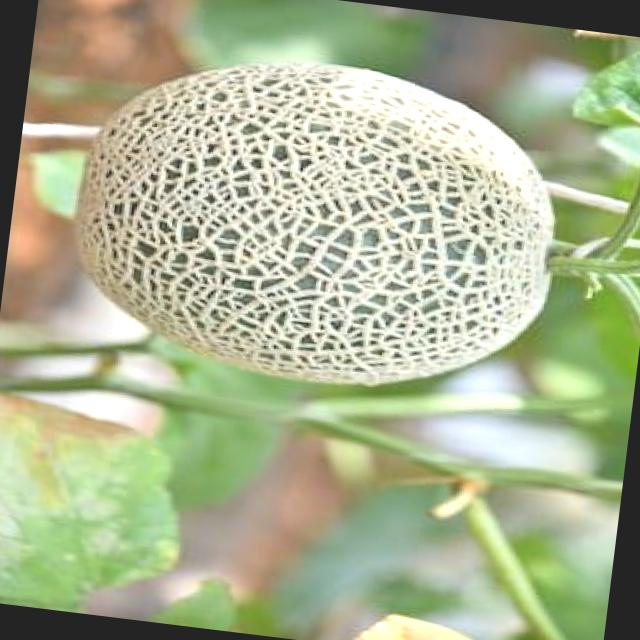cantaloupe: (61, 36, 574, 410)
